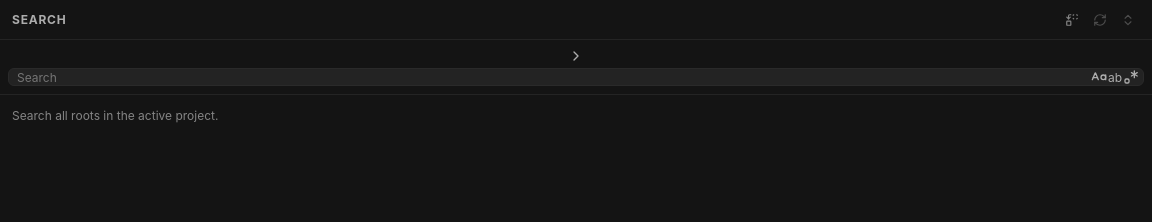
Scenario: Workspace Search view › VS Code style include and exclude patterns › shows the invalid-filter message and sends nothing when an expansion passes the limits
Type "needle" into the search field named "Search text" at (552, 77), box [17, 69, 1087, 85]
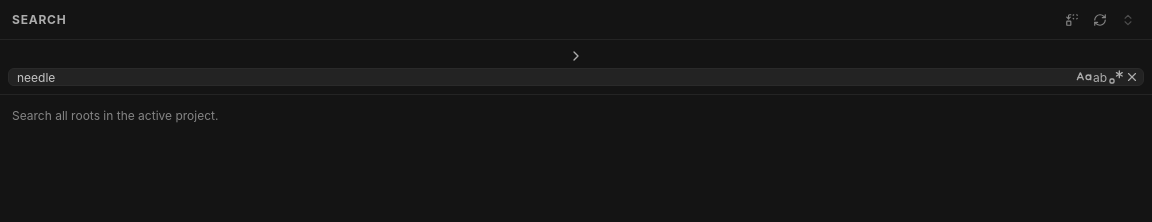
Click the button named "Show Search filters" at (576, 56), box [8, 48, 1144, 64]
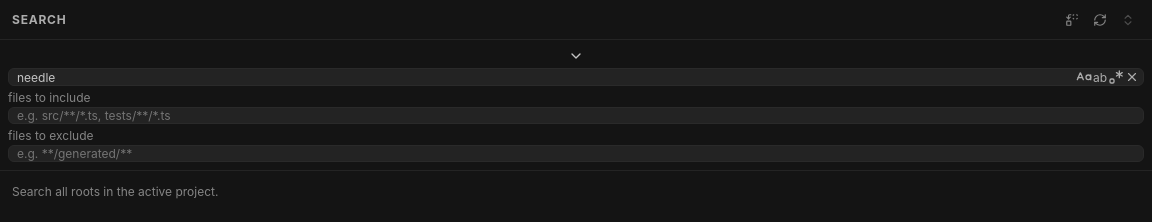
Type "a, b, c, d, e, f, g, h, i" into the field labelled "files to include" at (576, 116), box [8, 107, 1144, 124]
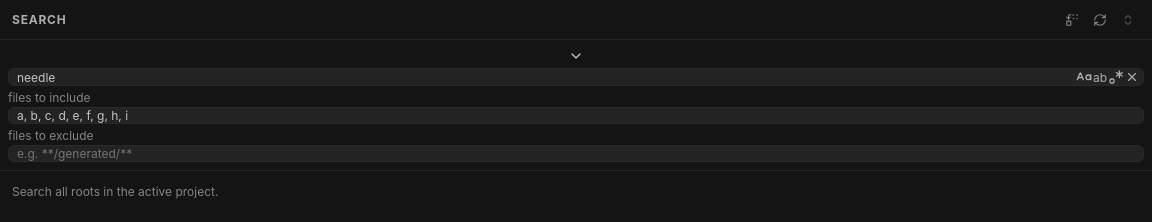
Clear the field labelled "files to exclude" at (576, 154), box [8, 145, 1144, 162]
Submit the form named "Search text", box [0, 40, 1151, 171]
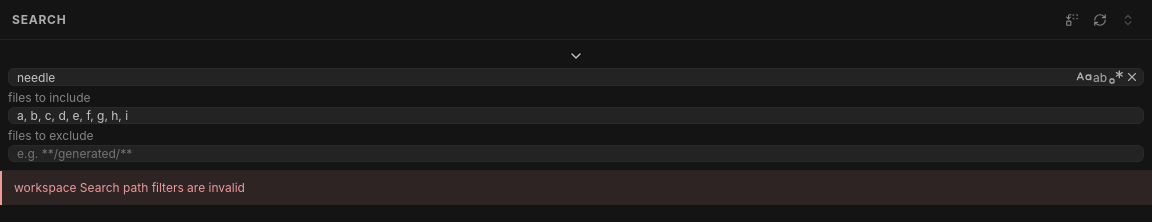
Check: the text "workspace Search path filters are invalid" is shown, box [0, 171, 1151, 205]
